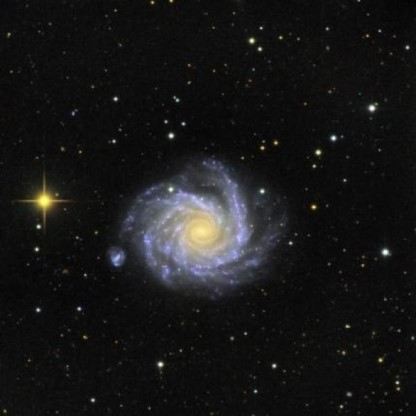NGC 1232: (106, 146, 297, 309)
